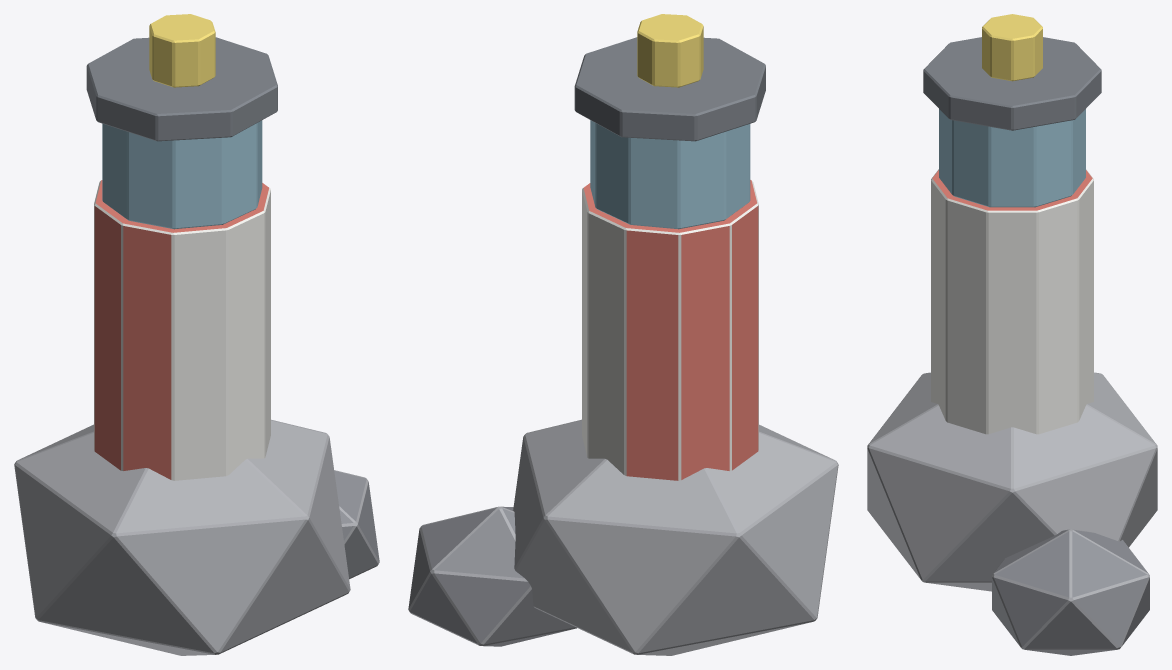
3 renders of one model, left to right at view 1: azimuth 30°, elevation 25°; view 2: azimuth 150°, elevation 25°; view 3: azimuth 270°, elevation 25°, orthographic. The views are drawn at different scales.
Visible parts, largest first — view 1: 礁石, 塔身.002, 灯室.001, 顶盖.001, 顶灯.003; view 2: 礁石, 塔身.002, 灯室.001, 顶盖.001, 顶灯.003; view 3: 礁石, 塔身.002, 灯室.001, 顶盖.001, 顶灯.003.
Part boxes in pixels (x1,y1,x2,y2): 礁石: [14, 419, 379, 655]; 塔身.002: [94, 180, 270, 480]; 灯室.001: [102, 120, 262, 229]; 顶盖.001: [86, 37, 277, 141]; 顶灯.003: [149, 14, 215, 87]; 礁石: [408, 419, 838, 655]; 塔身.002: [582, 180, 758, 480]; 灯室.001: [590, 120, 750, 229]; 顶盖.001: [574, 37, 765, 141]; 顶灯.003: [637, 14, 703, 87]; 礁石: [867, 372, 1157, 655]; 塔身.002: [931, 169, 1093, 434]; 灯室.001: [939, 109, 1085, 207]; 顶盖.001: [923, 37, 1101, 130]; 顶灯.003: [982, 14, 1042, 81].
Bounding box in the file's own units: 487 × 803 × 373.
